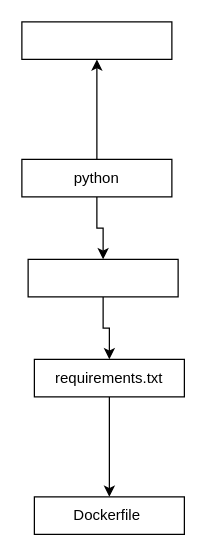
The diagram is 206 pixels wide and 556 high, and some of its shapes have lost their labels. The shapes that lost their labels are listed below. From the top down, each one's box as (x1, y1, x2, y2) in pixels, then its label:
(21, 21, 172, 59): Repo(VCS)
(27, 258, 178, 297): app.py
